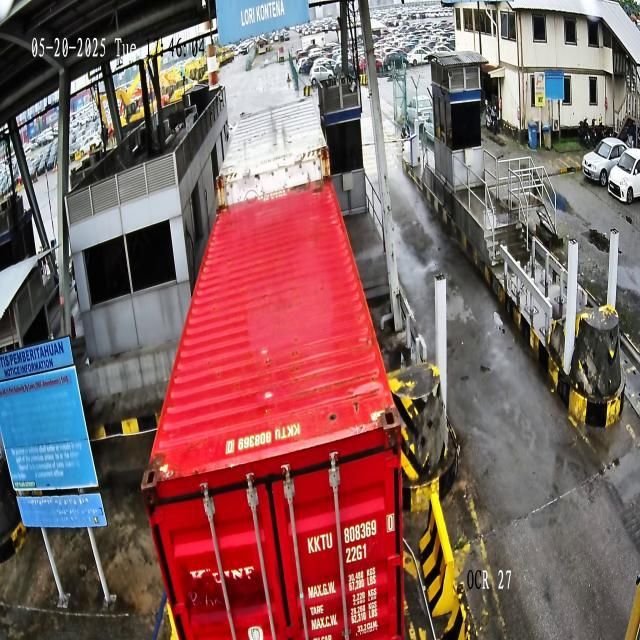ISO: (344, 542, 368, 566)
container_number: (306, 512, 396, 554)
